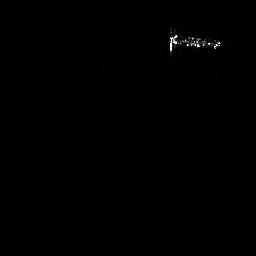ship: (166, 25, 223, 57)
